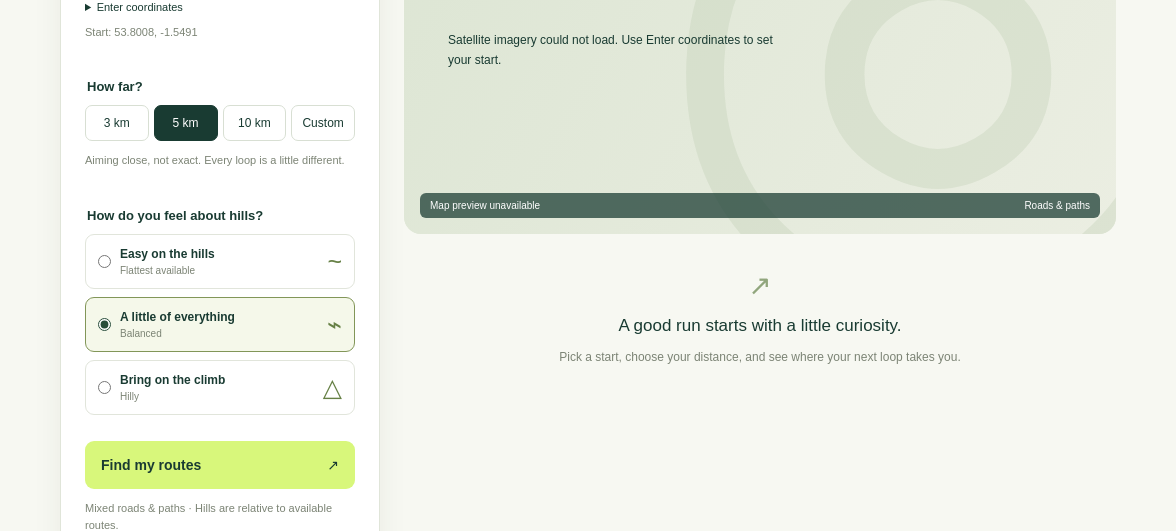
Scenario: retains previous success on failure
(page scrolled)
Click the button "Find my routes ↗". click: {"x": 151, "y": 465}
box: [85,441,355,489]
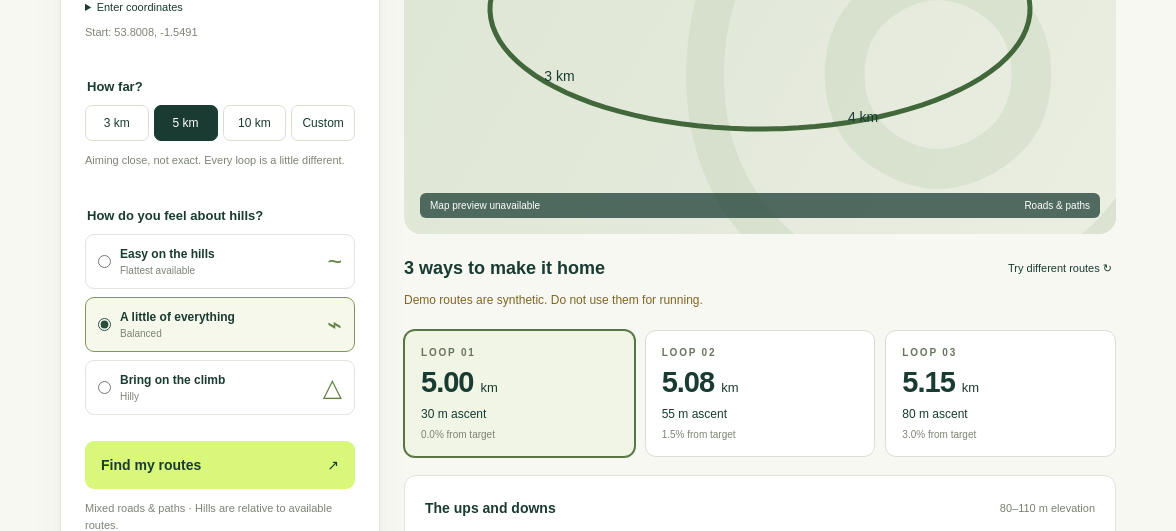
Expected: the heading "3 ways to make it home" is shown, [404,258,605,279]
Click the button "Try different routes ↻". click: {"x": 1060, "y": 268}
box: [1004,258,1116,279]
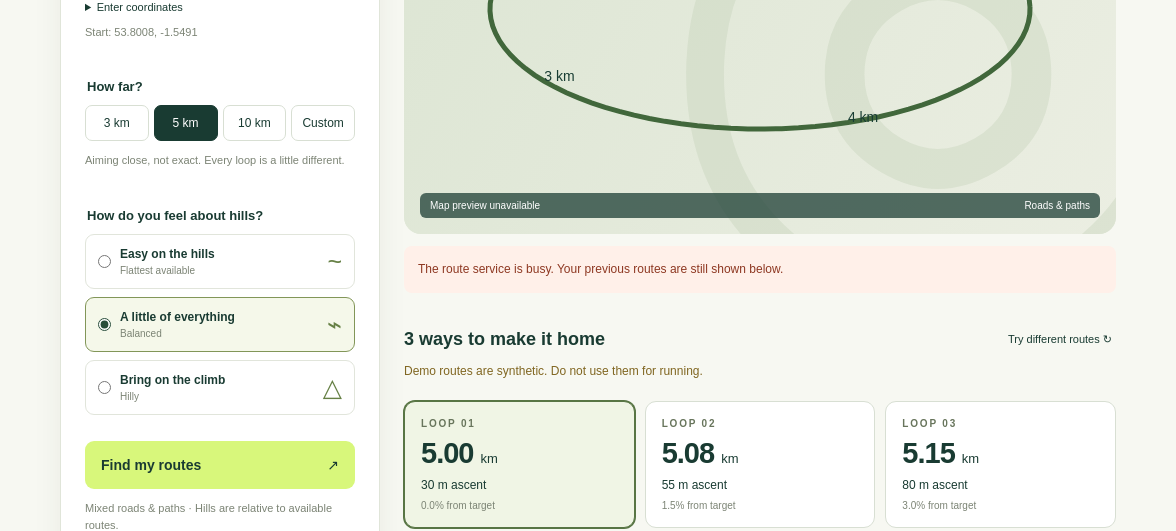
Expected: the text "5.00" is shown, [421,437,474,469]
Expected: the message "The route service is busy. Your previous routes are still shown below." is shown, [404,246,1116,293]
